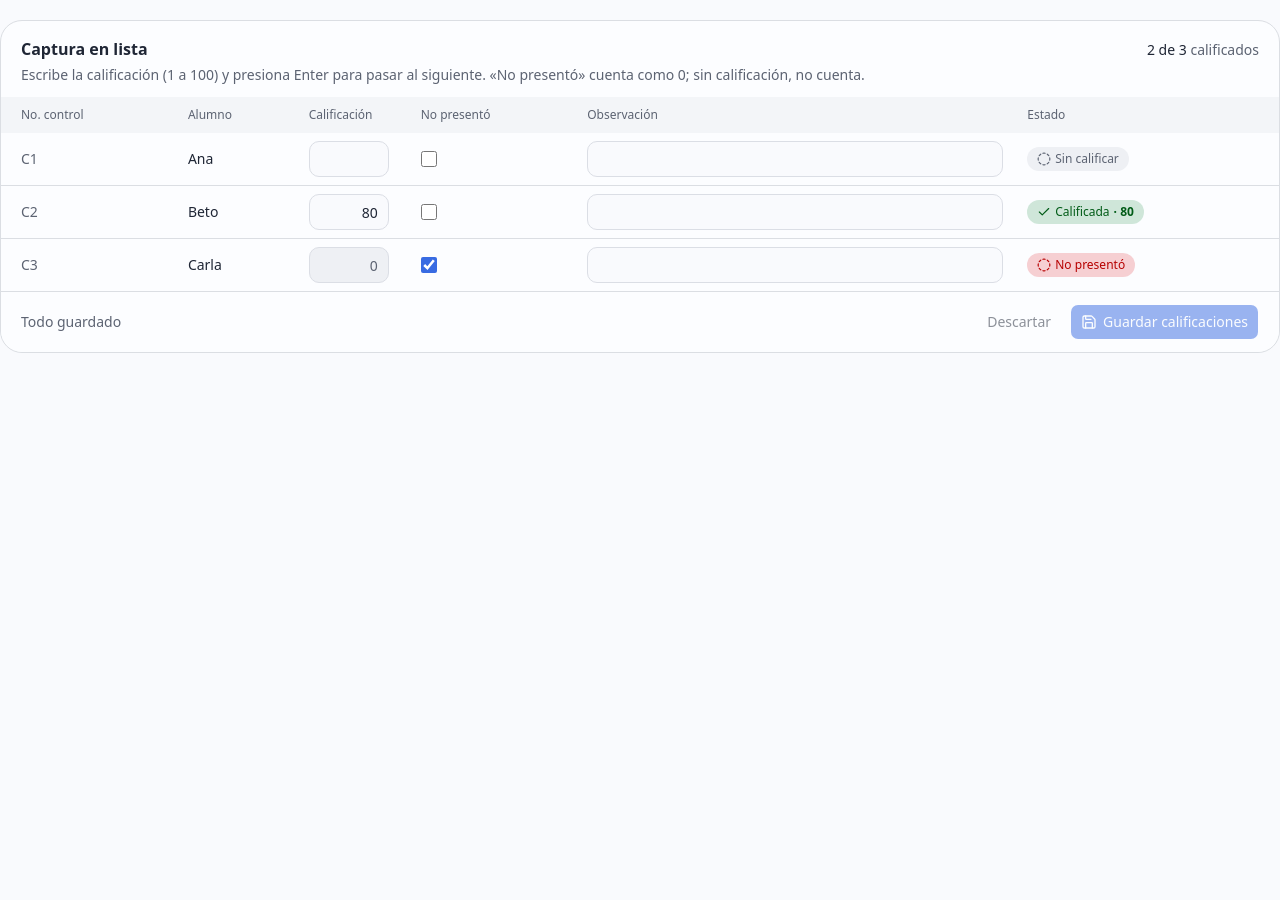
it: sólo manda lo que cambió y bloquea calificaciones fuera de rango
Type "150" into the field named "Calificación de Ana" at [349, 159], box [309, 141, 389, 177]
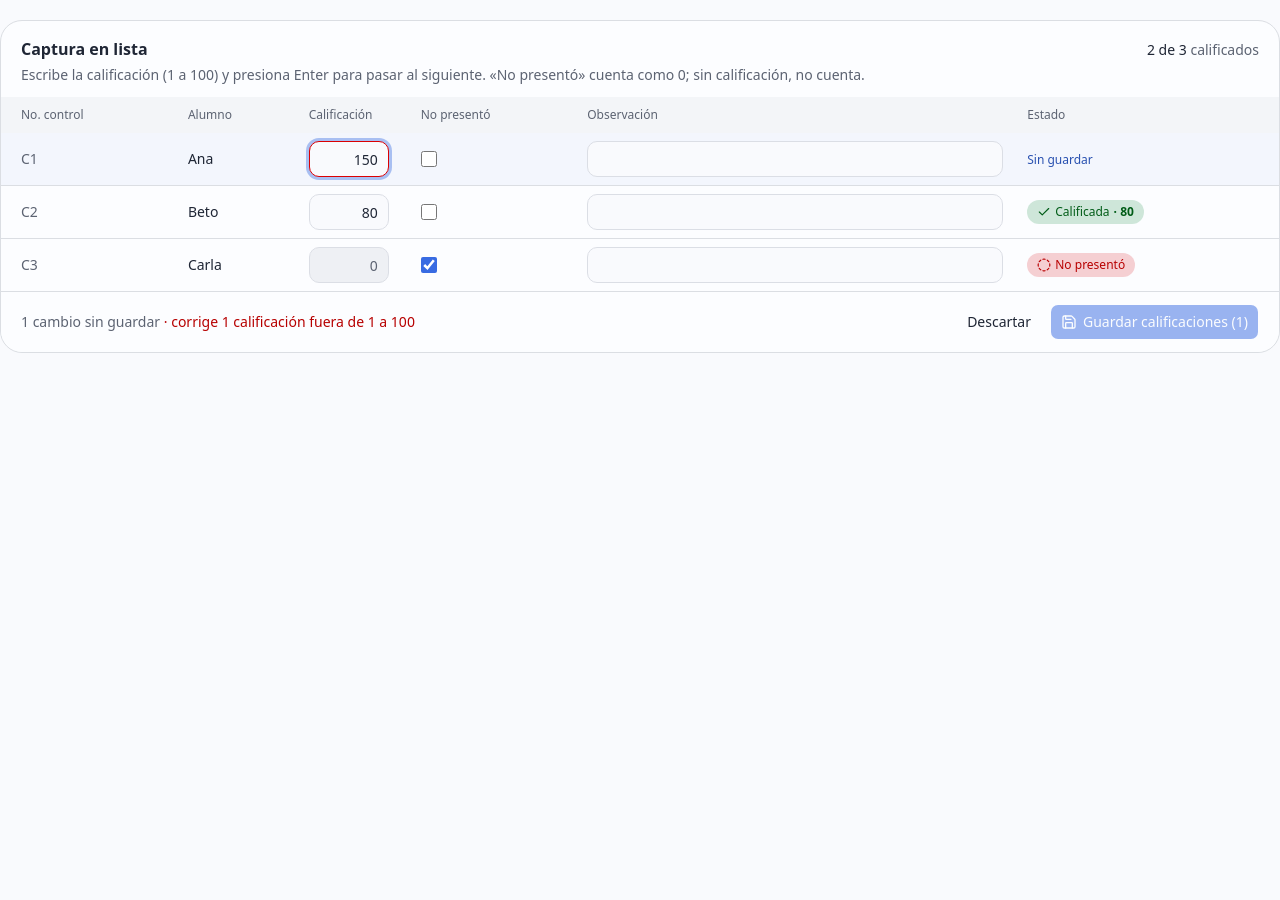
Check: the button "Guardar calificaciones (1)" is disabled, box [1050, 304, 1259, 340]
Check: the text "· corrige 1 calificación fuera de 1 a 100" is shown, box [160, 312, 415, 331]
Replace the text in the field named "Calificación de Ana" with "95" at [349, 159], box [309, 141, 389, 177]
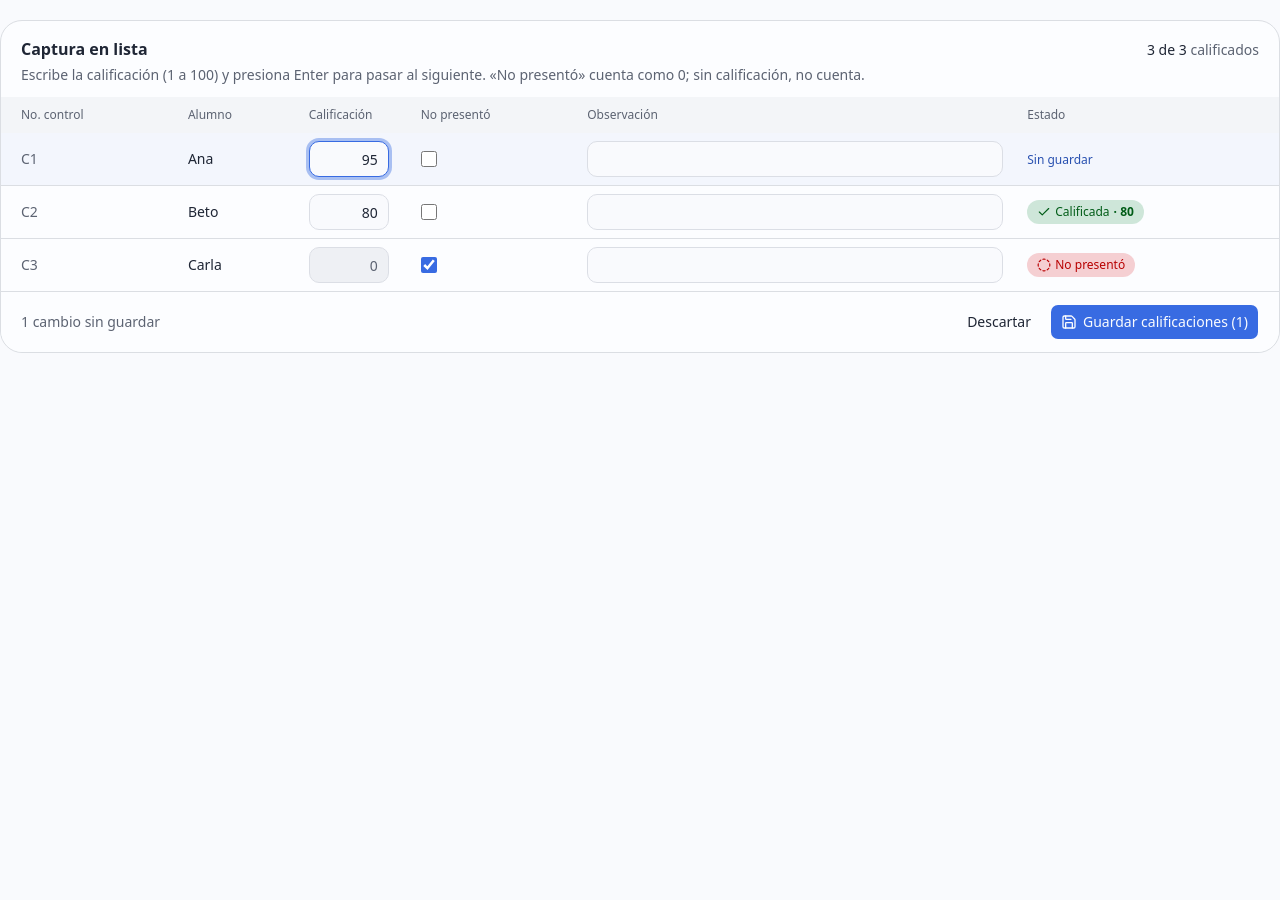
Click the checkbox named "Beto no presentó" in the row of "C2" at [429, 212], box [421, 204, 437, 220]
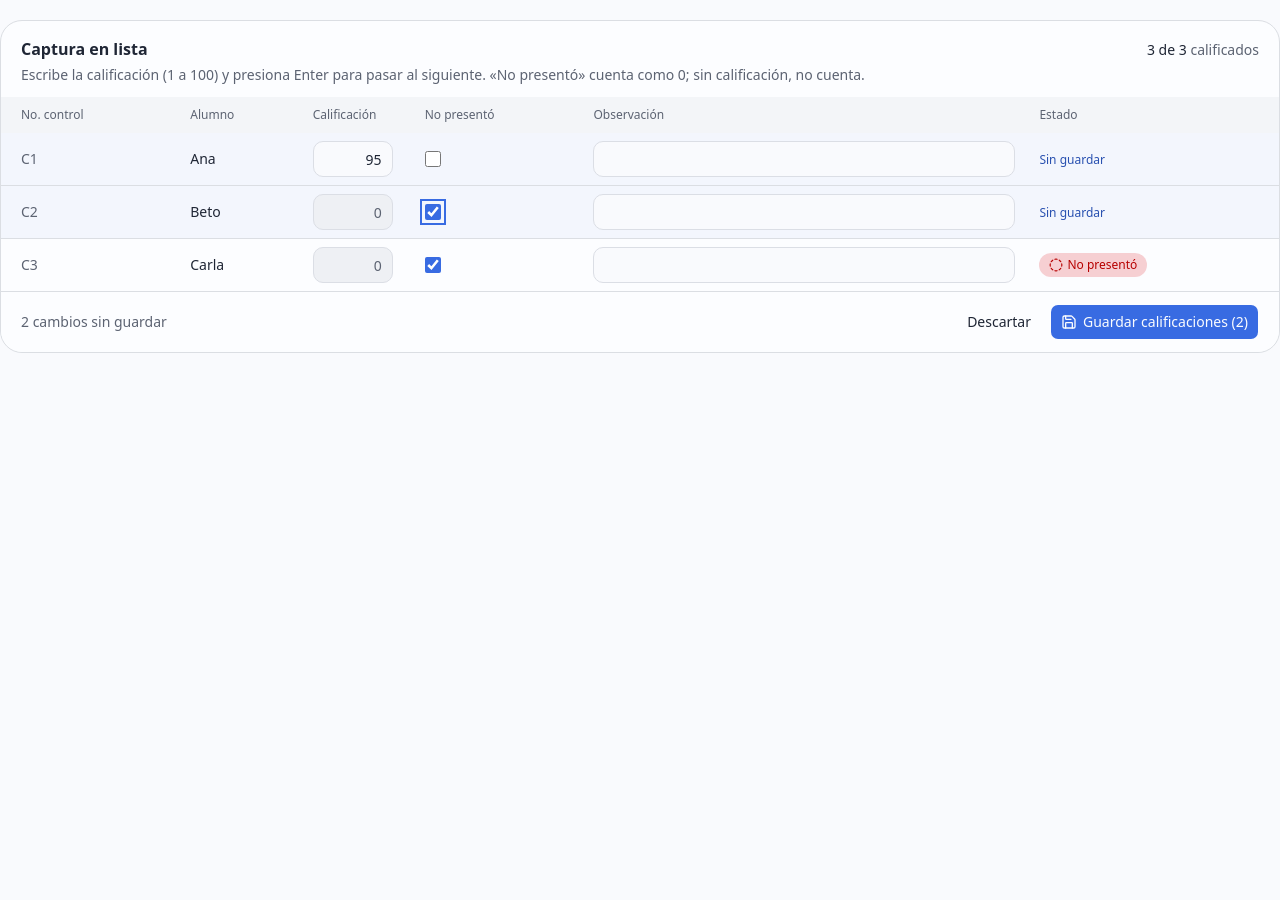
Click the checkbox named "Carla no presentó" in the row of "C3" at [433, 265], box [425, 257, 441, 273]
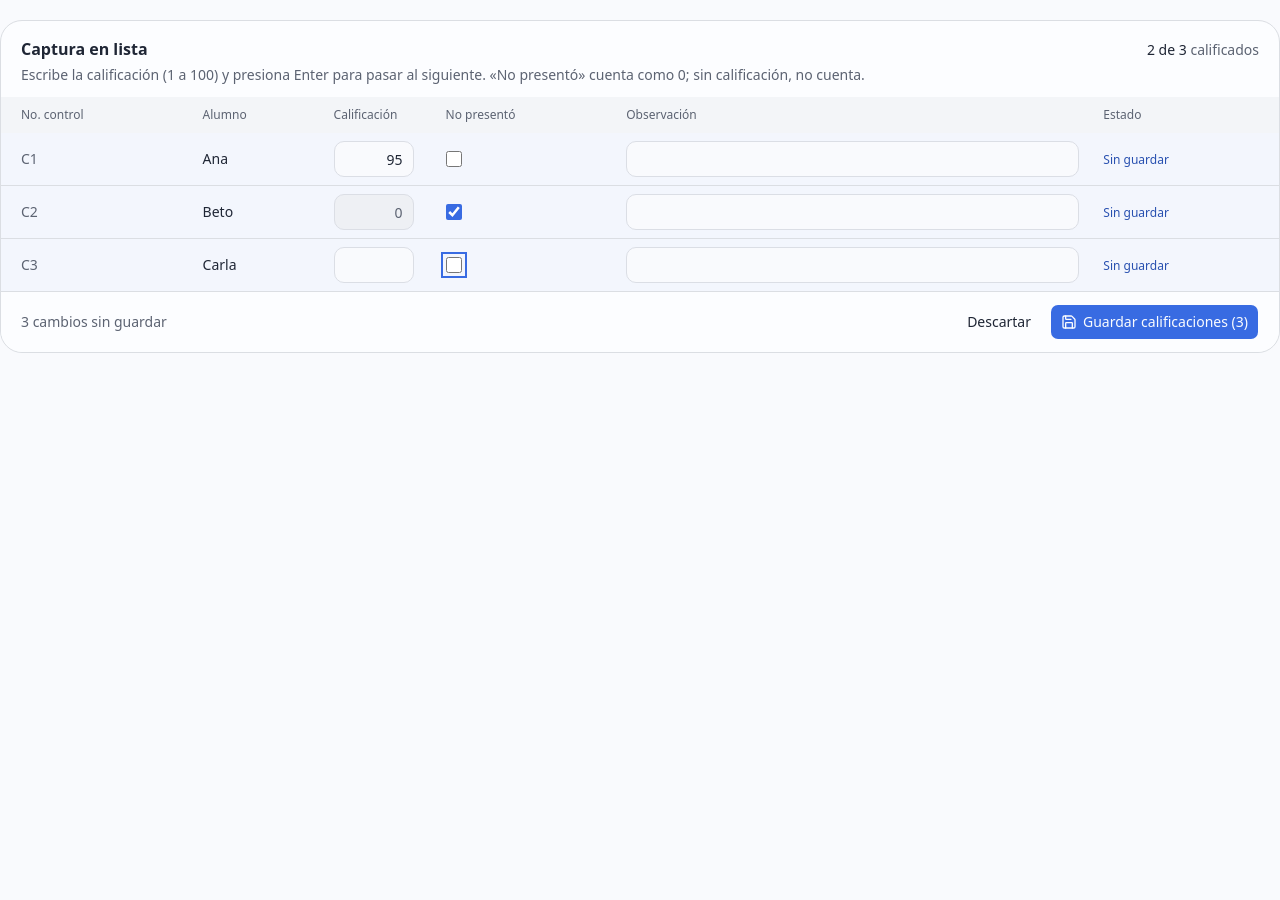
Type "Presentó en otra fecha" into the field named "Observación para Carla" at [853, 265], box [626, 247, 1079, 283]
Type "70" into the field named "Calificación de Carla" at [374, 265], box [334, 247, 414, 283]
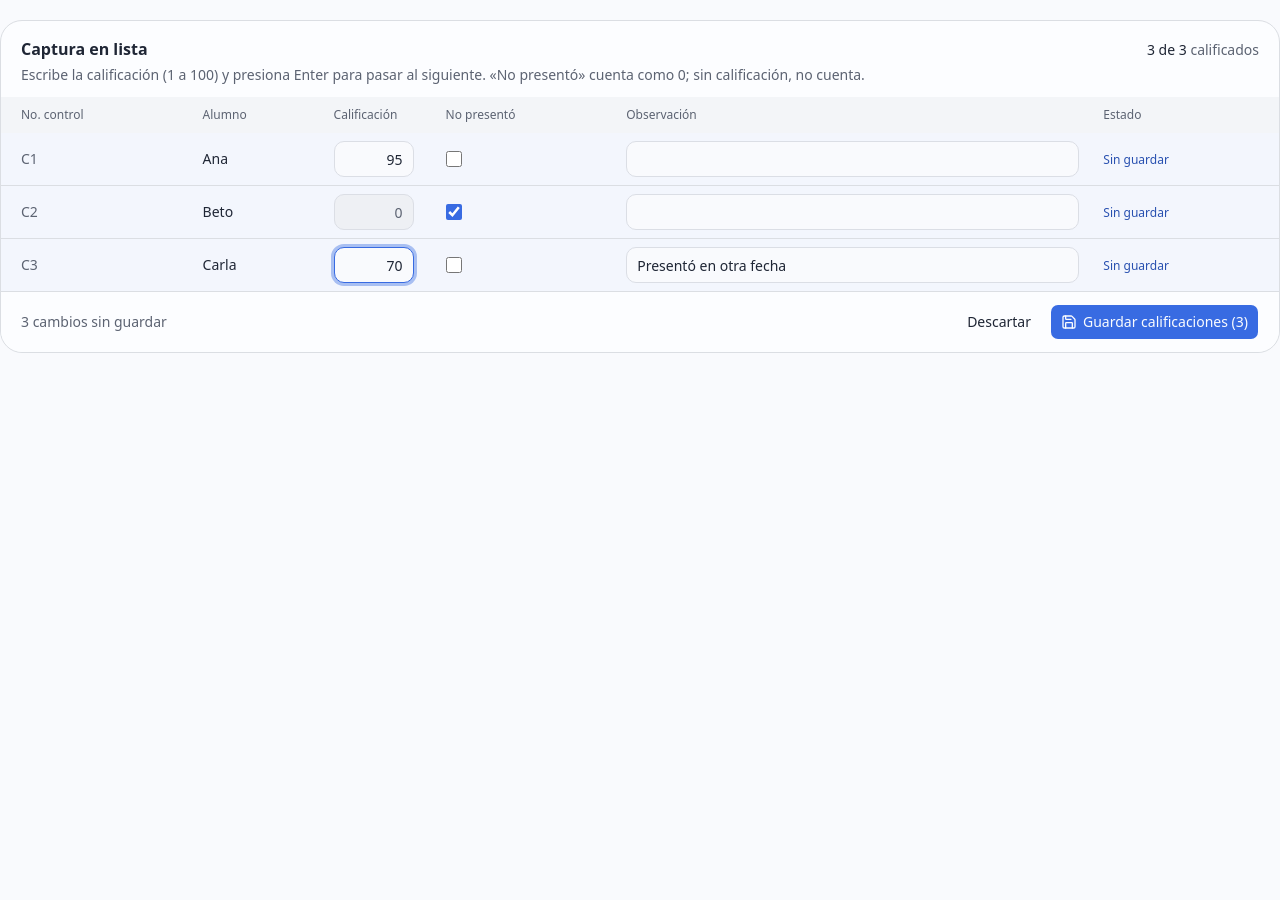
Click the button "Guardar calificaciones (3)" at [1154, 322], box [1050, 304, 1259, 340]
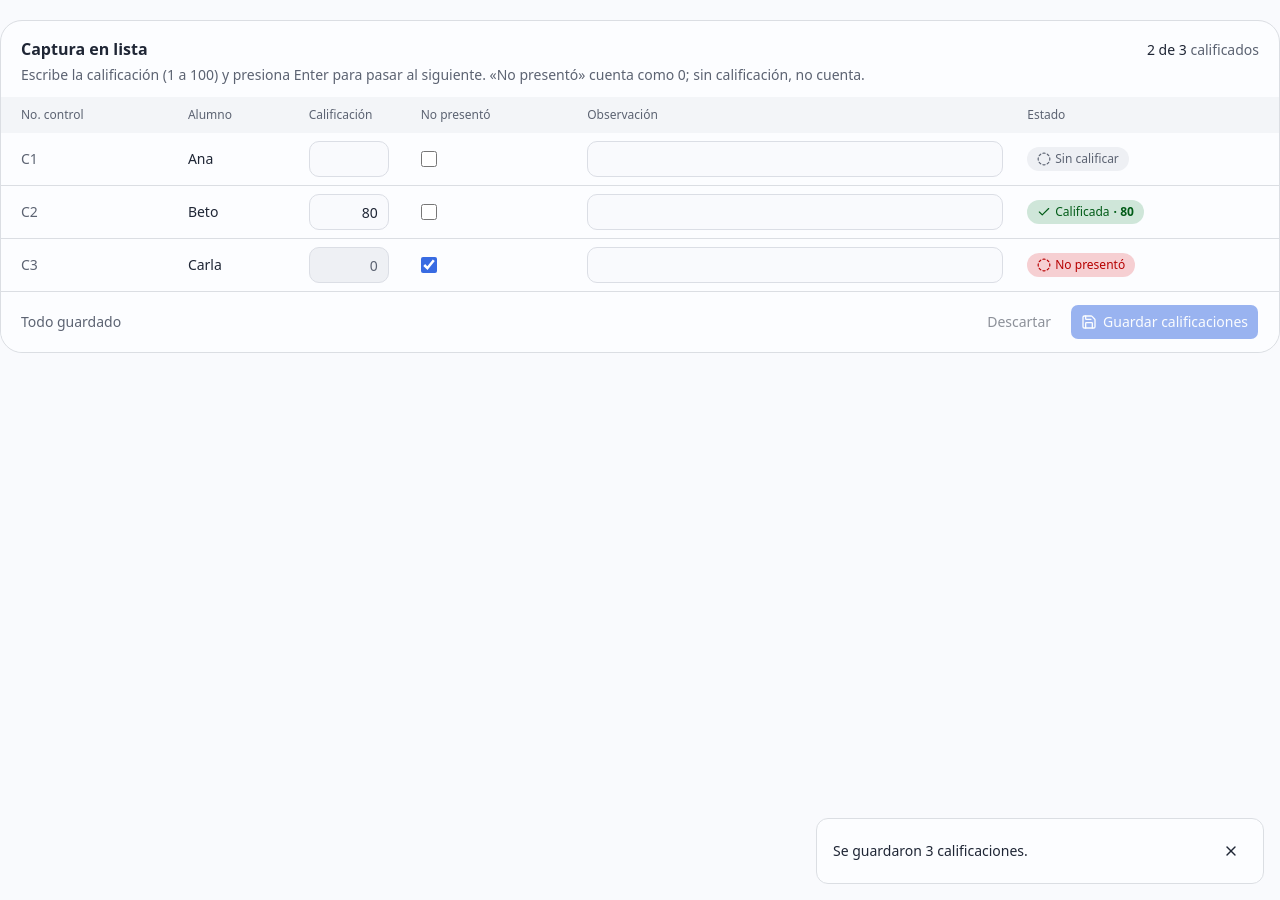
Check: the text "Se guardaron 3 calificaciones." is shown, box [833, 841, 1028, 860]
